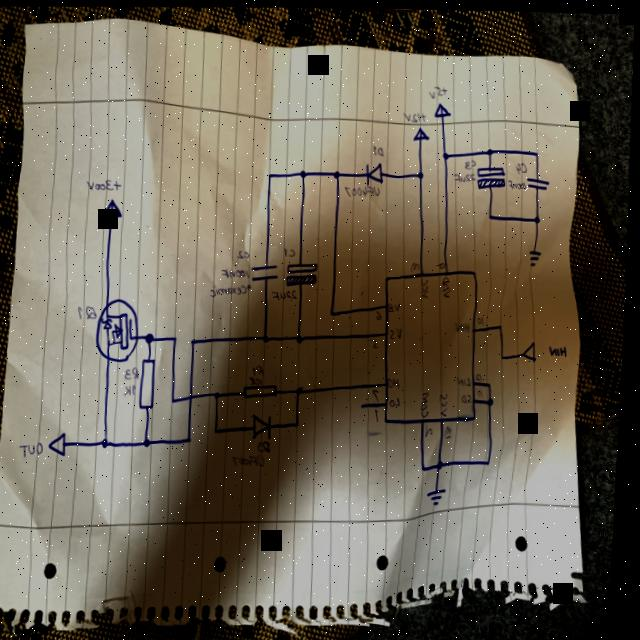capacitor: (477, 160, 508, 188), (288, 257, 321, 283), (254, 262, 283, 280), (528, 174, 552, 188)
crossover: (192, 393, 197, 400)
diode: (255, 412, 276, 438), (366, 159, 385, 184)
ground: (431, 485, 452, 503), (530, 245, 545, 264)
junction: (147, 330, 158, 343), (440, 456, 449, 468), (105, 436, 114, 448), (147, 435, 156, 447), (298, 331, 307, 343), (301, 166, 309, 178), (418, 167, 426, 178), (443, 148, 451, 158), (487, 145, 495, 155), (490, 393, 498, 403), (335, 167, 343, 177), (299, 384, 307, 394), (265, 332, 273, 342), (174, 332, 182, 342), (536, 212, 543, 222), (425, 461, 432, 471), (193, 335, 200, 345), (489, 454, 496, 464), (268, 169, 275, 178), (500, 320, 507, 329), (489, 210, 496, 218), (332, 308, 339, 316), (298, 418, 304, 427), (535, 147, 541, 156), (191, 434, 197, 443), (217, 391, 224, 398), (503, 351, 509, 359), (218, 425, 224, 433), (490, 378, 496, 386), (175, 396, 179, 402)
resistor: (142, 357, 161, 408), (247, 382, 281, 398)
source: (103, 196, 126, 218), (434, 99, 453, 115), (414, 124, 431, 139)
terminal: (51, 430, 72, 457), (524, 337, 541, 360)
text: (212, 279, 255, 299), (88, 176, 123, 192), (346, 182, 381, 198), (222, 263, 252, 280), (237, 452, 270, 466), (24, 440, 48, 458), (80, 304, 100, 320), (276, 287, 302, 299), (424, 387, 435, 415), (404, 108, 429, 120), (428, 83, 448, 97), (454, 169, 477, 181), (552, 341, 571, 355), (443, 389, 453, 414), (444, 273, 454, 297), (423, 276, 434, 297), (510, 176, 528, 188), (392, 324, 407, 338), (128, 366, 143, 379), (458, 319, 474, 331), (391, 374, 404, 388), (261, 439, 276, 451), (461, 373, 475, 385), (391, 299, 405, 311), (516, 158, 528, 172), (240, 247, 253, 259), (393, 394, 405, 406), (286, 245, 298, 257), (128, 383, 140, 395), (465, 156, 477, 167), (256, 363, 267, 375), (374, 143, 385, 155), (449, 423, 458, 437), (429, 421, 438, 435), (253, 375, 267, 384), (375, 386, 384, 399), (372, 336, 383, 346), (465, 390, 475, 401), (413, 258, 422, 269), (479, 313, 488, 323), (439, 257, 448, 267), (378, 406, 384, 420), (478, 371, 487, 379), (379, 308, 385, 318), (480, 386, 487, 394)
transistor: (96, 296, 146, 362)
